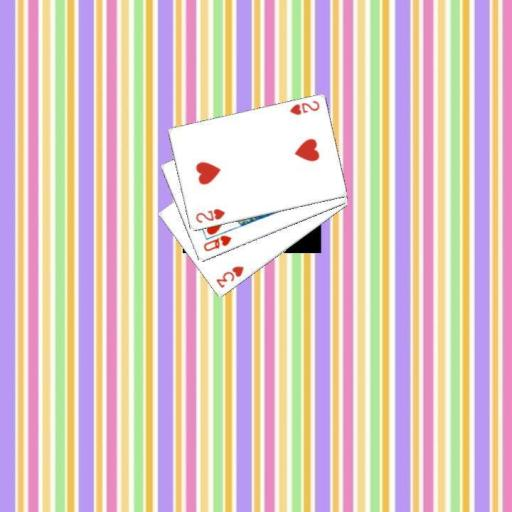card-corner: (213, 263, 245, 290), (200, 233, 233, 253), (192, 206, 226, 224), (286, 98, 320, 116)
